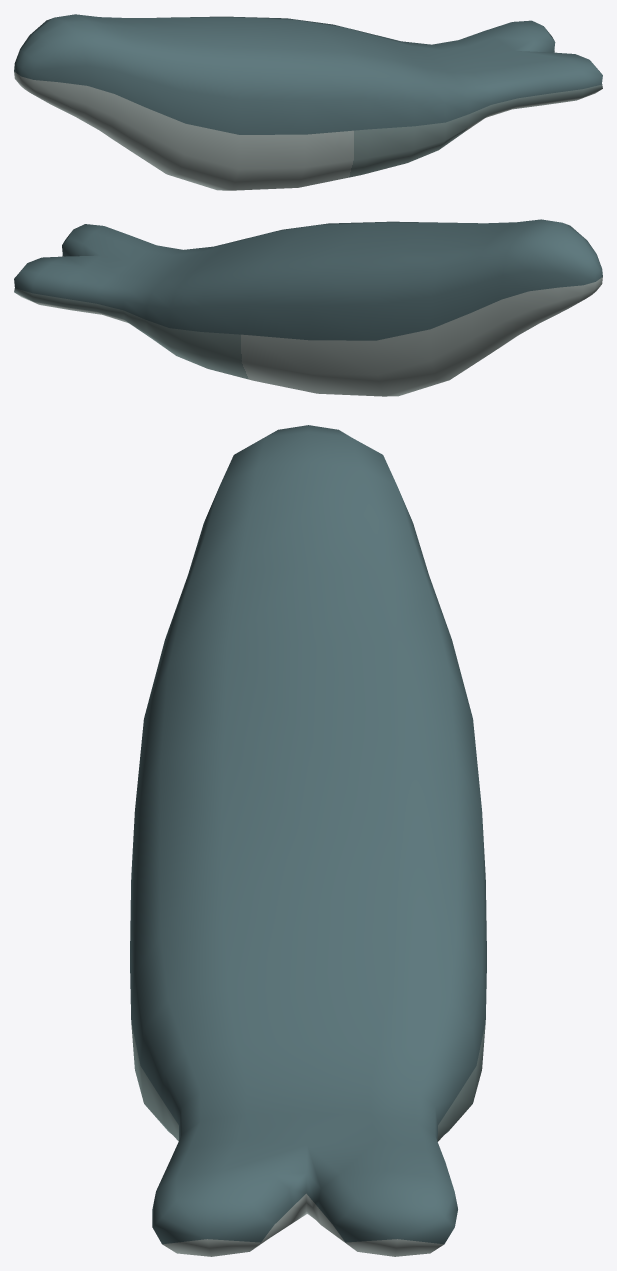
File: Seal Body.fbx
3 renders of one model, top to bottom at view 1: azimuth 30°, elevation 25°; view 2: azimuth 150°, elevation 25°; view 3: azimuth 270°, elevation 25°, orthographic. The views are drawn at different scales.
Parts seen in each view (by area): view 1: Seal Body; view 2: Seal Body; view 3: Seal Body.
Boxes of the visible parts, <box> form: Seal Body: <box>14,14,602,190</box>; Seal Body: <box>14,219,602,396</box>; Seal Body: <box>130,425,486,1256</box>.
Size of the model in its own units: 11.91 by 3.3 by 4.05.
